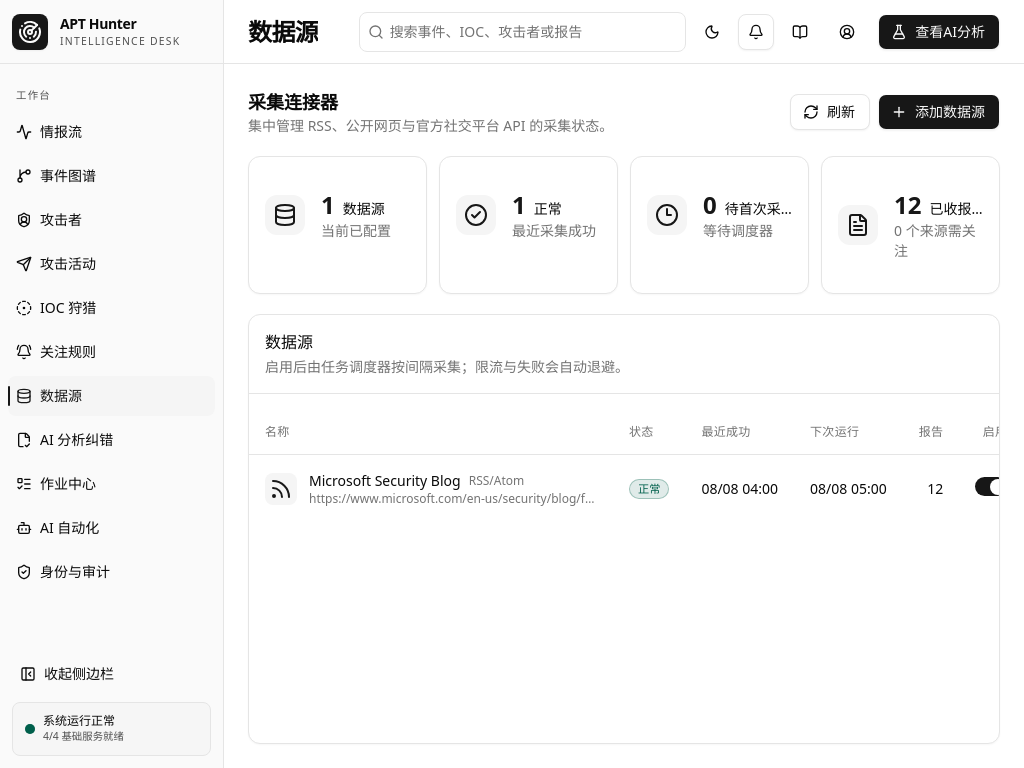
Test: source connector management › validates and creates an RSS source
Click the button "添加数据源" at (939,112), box x1=878 y1=94 x2=1000 y2=130
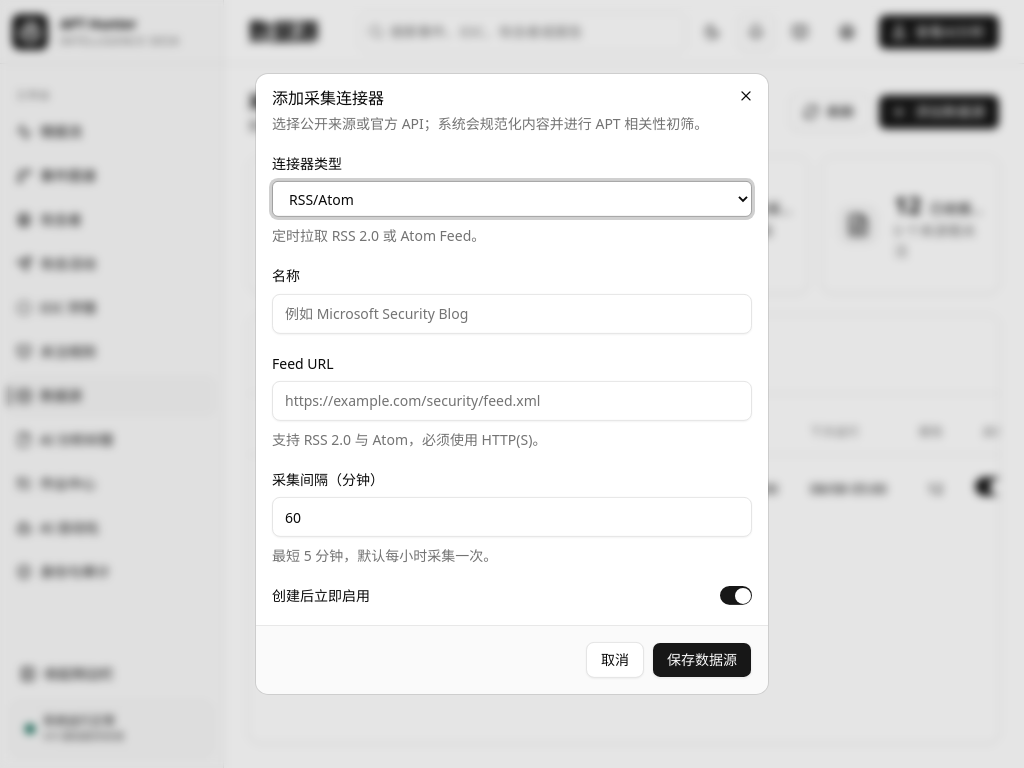
Click the button "保存数据源" at (702,660), box x1=652 y1=642 x2=752 y2=678
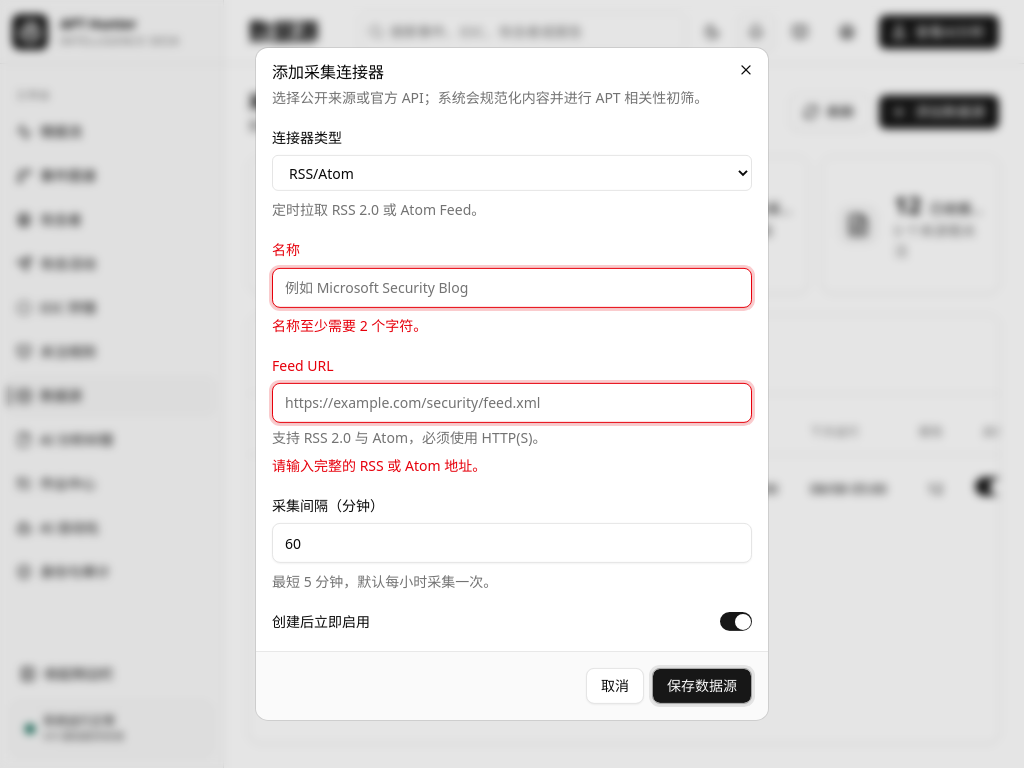
expect the text "名称至少需要 2 个字符。" is shown: met, box x1=272 y1=315 x2=427 y2=334
expect the text "请输入完整的 RSS 或 Atom 地址。" is shown: met, box x1=272 y1=456 x2=486 y2=475
Type "CISA" into the field labelled "名称" at (512,287), box x1=272 y1=267 x2=752 y2=307
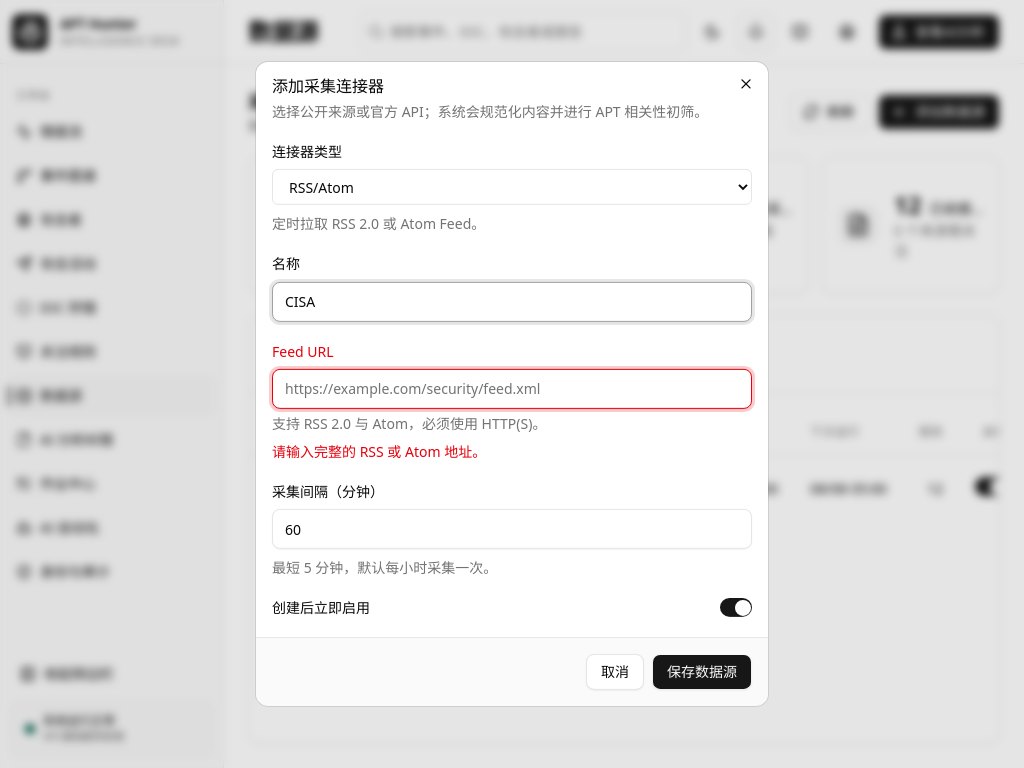
Type "https://www.cisa.gov/cybersecurity-advisories/all.xml" into the field labelled "Feed URL" at (512,389), box x1=272 y1=369 x2=752 y2=409
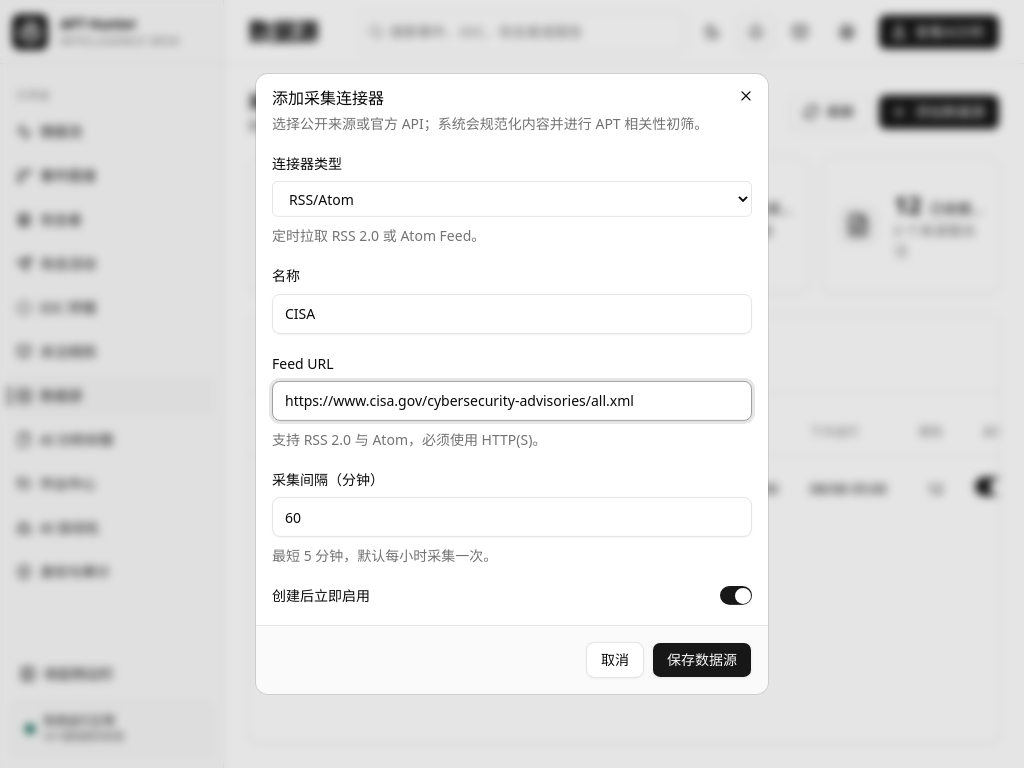
Click the button "保存数据源" at (702,660), box x1=652 y1=642 x2=752 y2=678
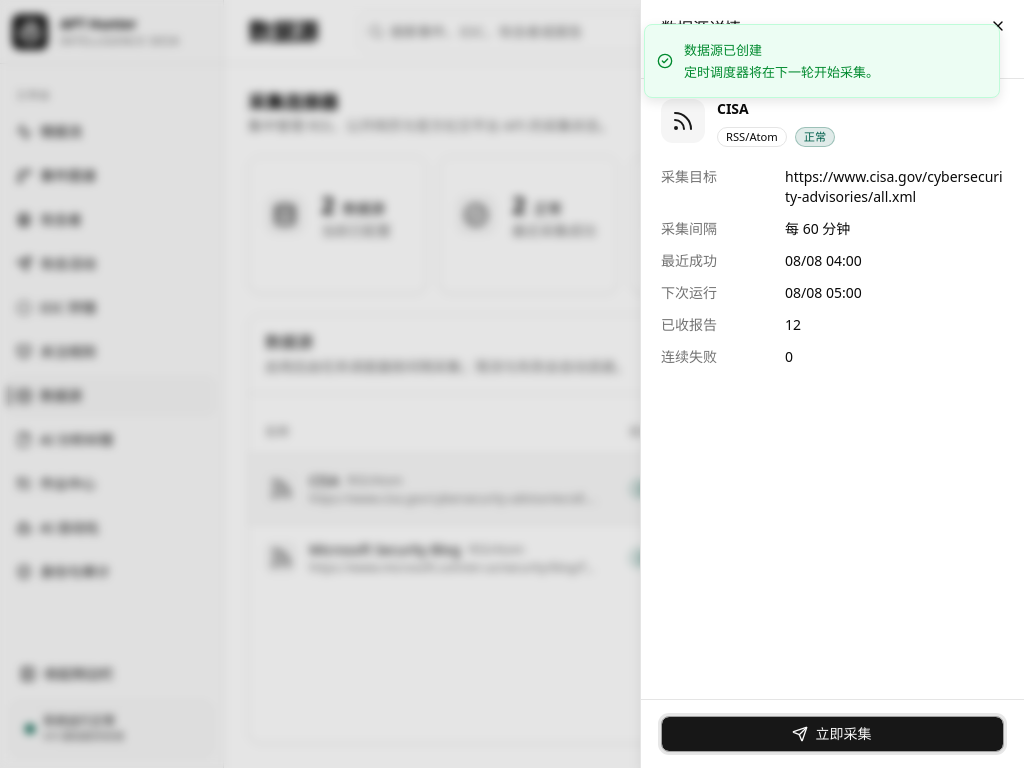
expect the text "CISA" is shown: met, box x1=309 y1=470 x2=339 y2=490
